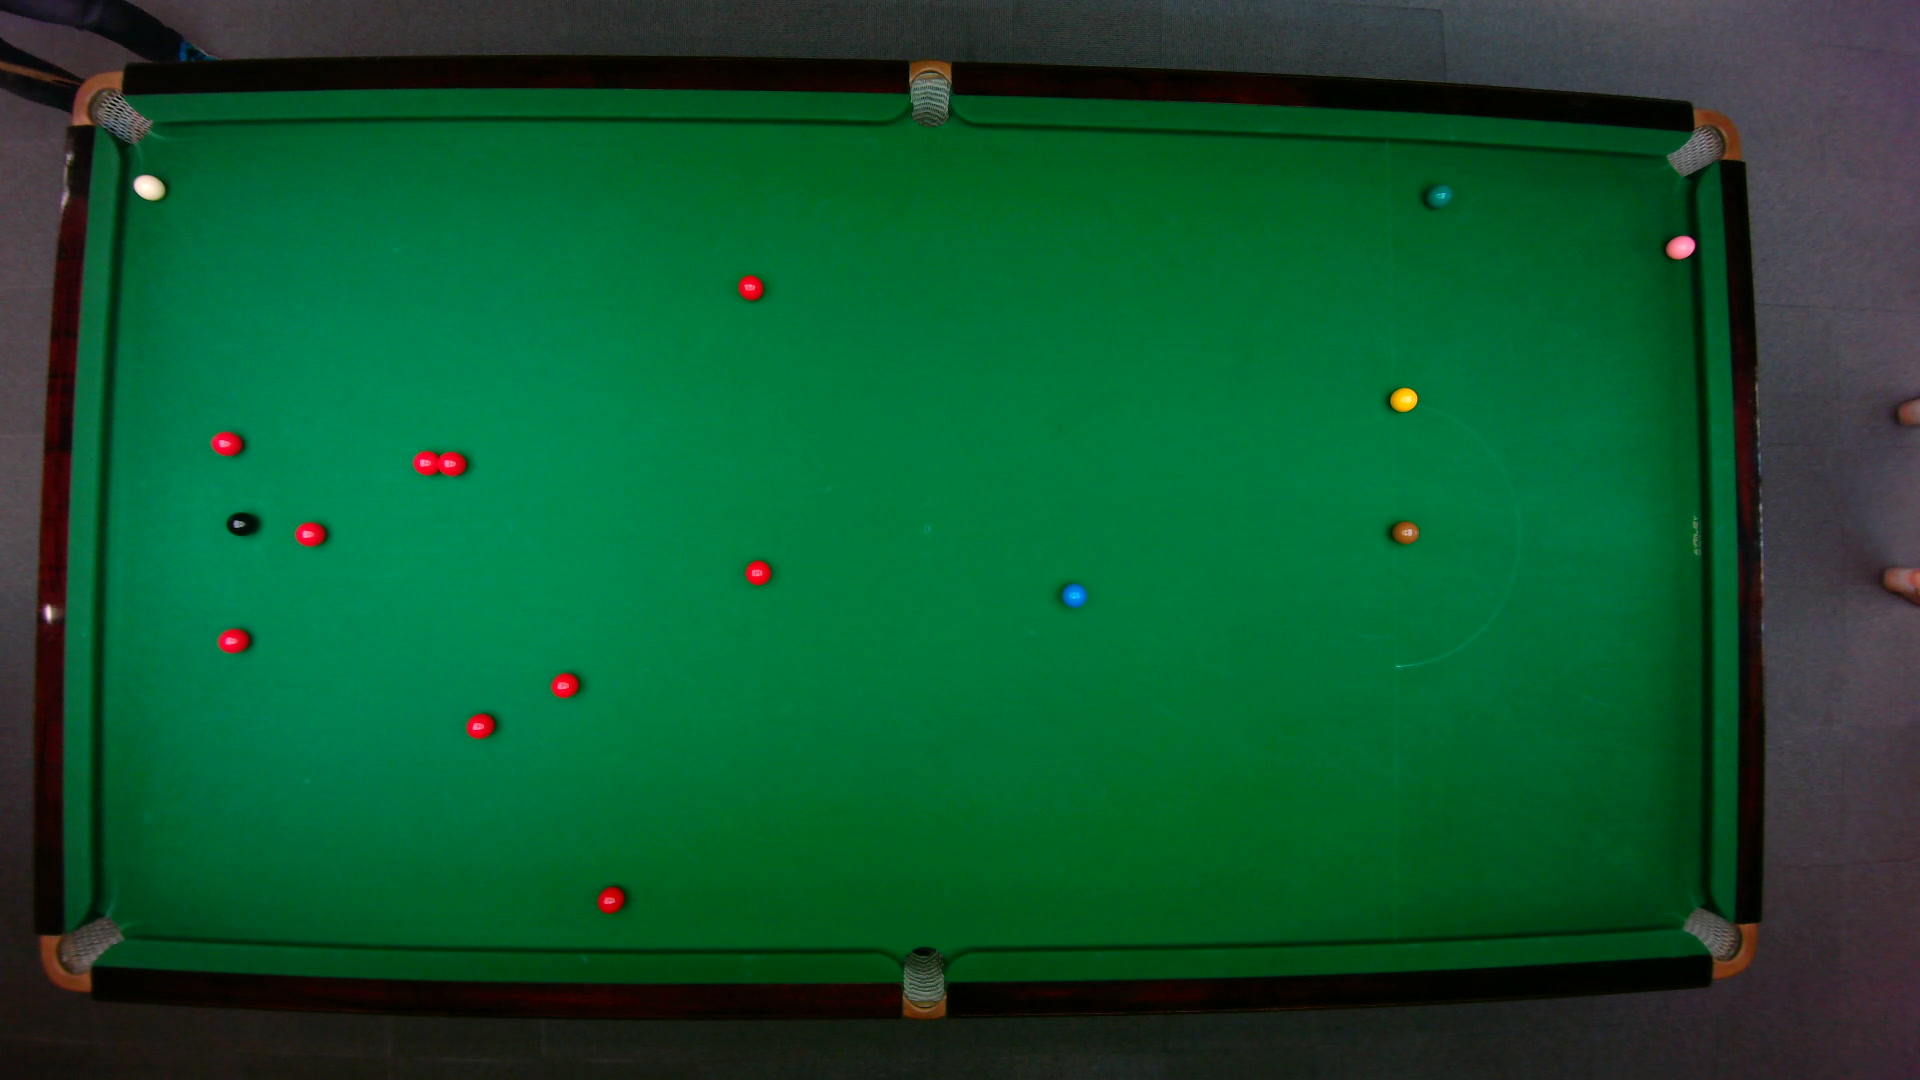bag: (38, 913, 125, 992), (69, 69, 152, 144), (1679, 905, 1756, 978), (1663, 107, 1741, 177), (901, 944, 944, 1021), (909, 57, 949, 127)
black: (223, 509, 257, 535)
blue: (1059, 582, 1087, 608)
brown: (1389, 520, 1419, 545)
green: (1423, 182, 1453, 208)
pink: (1663, 232, 1697, 260)
red: (291, 520, 327, 547), (215, 625, 251, 653), (208, 429, 244, 456), (595, 884, 625, 914), (410, 448, 442, 476), (463, 711, 495, 738), (435, 448, 467, 476), (742, 558, 771, 585), (735, 273, 764, 301), (549, 671, 579, 698)
white: (131, 171, 167, 200)
yellow: (1389, 385, 1418, 411)
zone: (1390, 400, 1520, 667)
